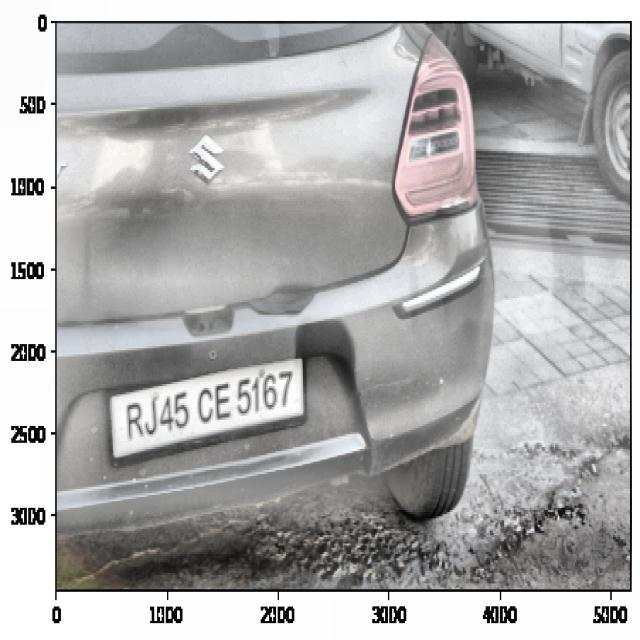license_plate: (122, 363, 297, 441)
